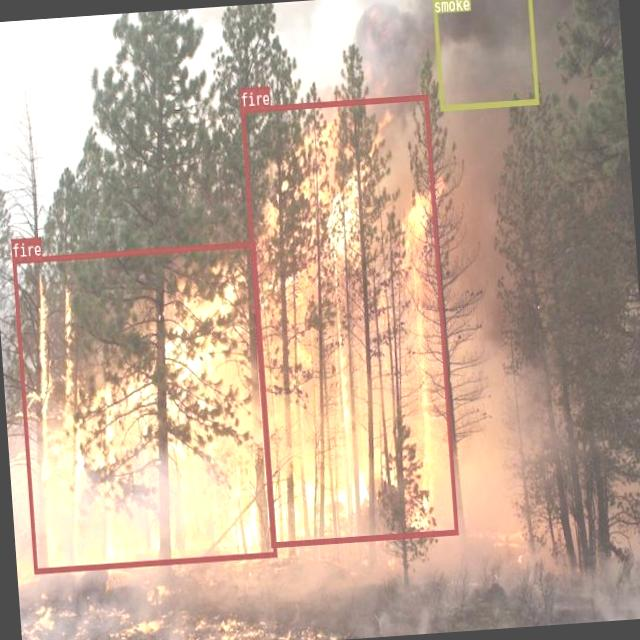fire: (240, 93, 457, 546), (12, 240, 276, 572)
smoke: (431, 0, 538, 109)
